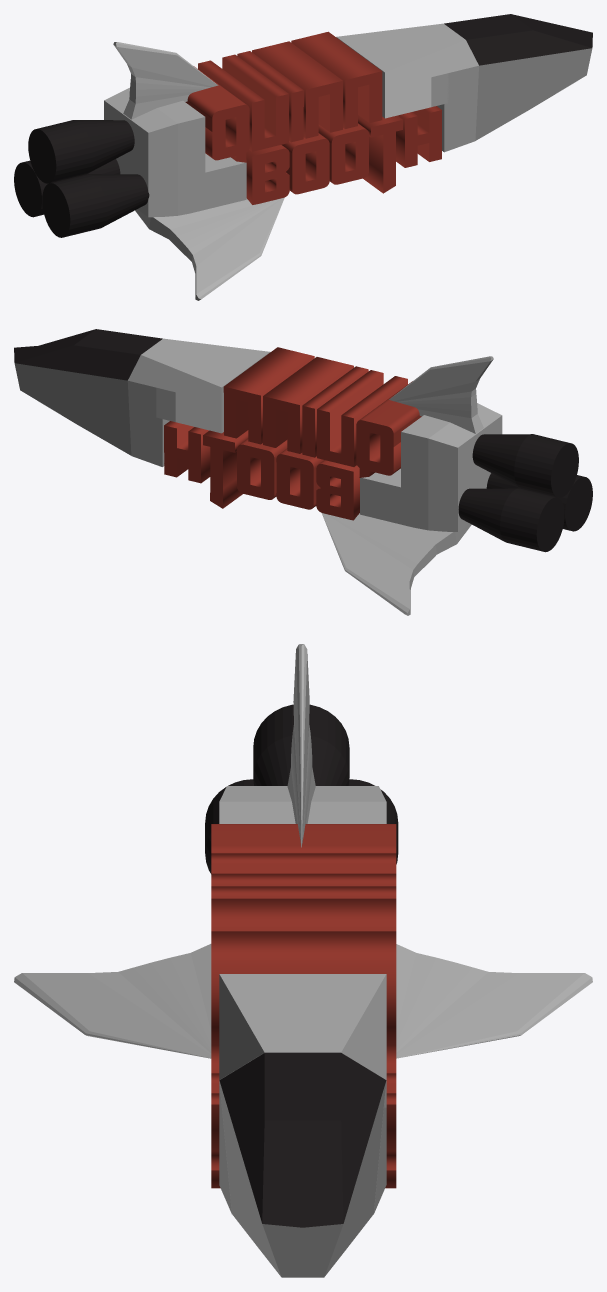
The model's file is spaceship1.glb.
3 renders of one model, top to bottom at view 1: azimuth 30°, elevation 25°; view 2: azimuth 150°, elevation 25°; view 3: azimuth 270°, elevation 25°, orthographic. The views are drawn at different scales.
Parts seen in each view (by area): view 1: Text, Text.001, Cube.001, Cube, Cone.001, Cube.002, Cylinder.002, Cylinder, Cube.003, Cone, Cylinder.001; view 2: Text, Text.001, Cube.001, Cube, Cone.003, Cube.002, Cylinder.001, Cylinder, Cube.003, Cone, Cylinder.002; view 3: Text, Cube.003, Cube, Cone.001, Cone.003, Cube.002, Cube.001, Cylinder, Cone, Text.001, Cylinder.002.
Boxes of the visible parts, bbox=[...] form: Text: bbox=[185, 31, 382, 162]; Text.001: bbox=[246, 106, 441, 204]; Cube.001: bbox=[104, 88, 246, 217]; Cube: bbox=[336, 23, 478, 152]; Cone.001: bbox=[135, 197, 284, 300]; Cube.002: bbox=[475, 48, 592, 140]; Cylinder.002: bbox=[42, 174, 149, 237]; Cylinder: bbox=[28, 120, 134, 183]; Cube.003: bbox=[444, 14, 592, 65]; Cone: bbox=[113, 42, 218, 119]; Cylinder.001: bbox=[14, 159, 120, 217]; Text: bbox=[223, 347, 421, 477]; Text.001: bbox=[164, 421, 359, 520]; Cube.001: bbox=[360, 403, 502, 531]; Cube: bbox=[127, 338, 270, 466]; Cone.003: bbox=[321, 513, 471, 615]; Cube.002: bbox=[14, 363, 131, 455]; Cylinder.001: bbox=[458, 488, 564, 552]; Cylinder: bbox=[472, 434, 578, 497]; Cube.003: bbox=[14, 329, 162, 380]; Cone: bbox=[389, 356, 493, 433]; Cylinder.002: bbox=[486, 473, 592, 531]; Text: bbox=[211, 824, 396, 1046]; Cube.003: bbox=[219, 1052, 386, 1227]; Cube: bbox=[219, 974, 386, 1213]; Cone.001: bbox=[14, 944, 211, 1058]; Cone.003: bbox=[396, 944, 592, 1058]; Cube.002: bbox=[219, 1081, 386, 1277]; Cube.001: bbox=[219, 786, 386, 823]; Cylinder: bbox=[253, 704, 349, 785]; Cone: bbox=[287, 644, 315, 847]; Text.001: bbox=[211, 1046, 396, 1188]; Cylinder.002: bbox=[205, 779, 253, 873].
Bounding box in the file's own units: 11.5 × 3.95 × 6.1.
